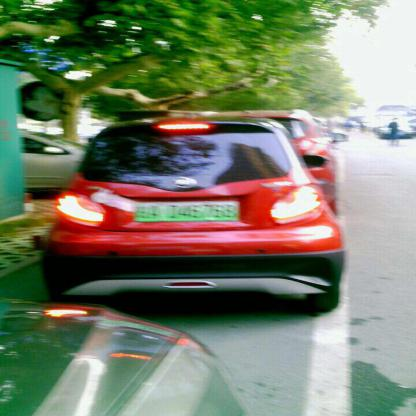lp: (133, 200, 240, 221)
